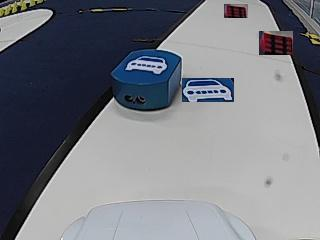safety: (126, 55, 168, 75)
